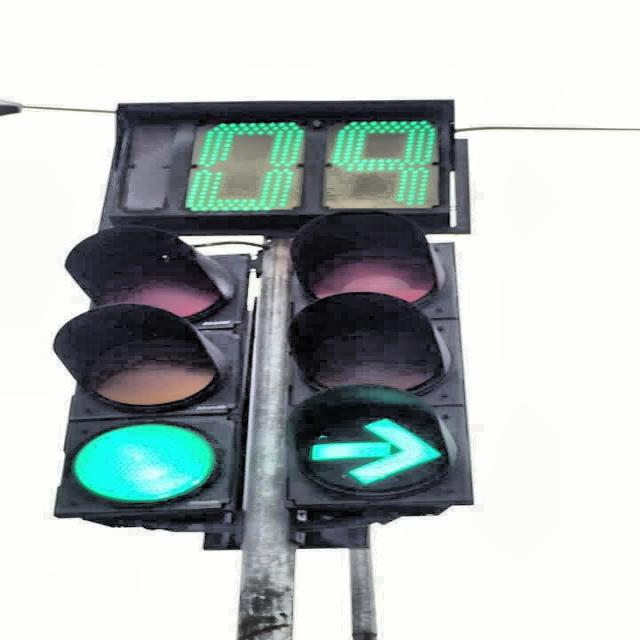green: (52, 228, 247, 518), (287, 211, 475, 505)
